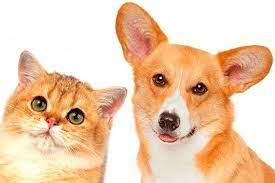animals: (115, 0, 275, 181), (0, 33, 127, 183)
